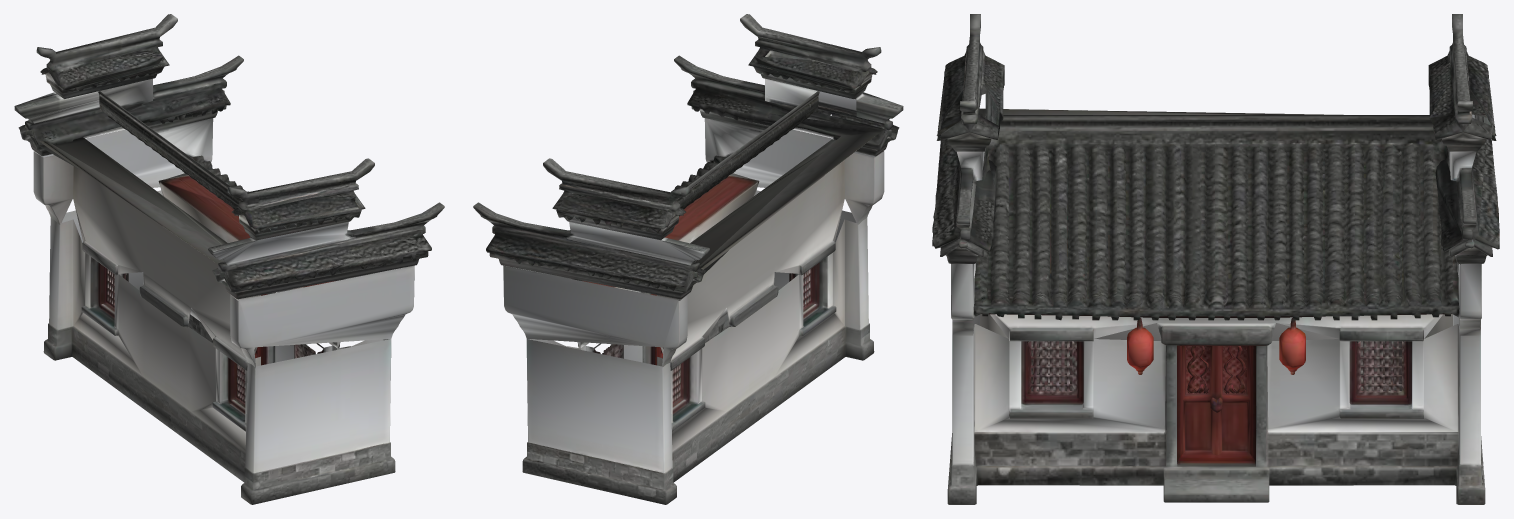
The model's file is house.glb.
3 renders of one model, left to right at view 1: azimuth 30°, elevation 25°; view 2: azimuth 150°, elevation 25°; view 3: azimuth 270°, elevation 25°, orthographic. The views are drawn at different scales.
Parts seen in each view (by area): view 1: tripo_node_8b333182-abb5-4bc7-bd70-dbc9748dc0c6; view 2: tripo_node_8b333182-abb5-4bc7-bd70-dbc9748dc0c6; view 3: tripo_node_8b333182-abb5-4bc7-bd70-dbc9748dc0c6.
Boxes of the visible parts, box(x1,y1,x2,y2) form: tripo_node_8b333182-abb5-4bc7-bd70-dbc9748dc0c6: box(14, 14, 444, 504); tripo_node_8b333182-abb5-4bc7-bd70-dbc9748dc0c6: box(473, 14, 903, 504); tripo_node_8b333182-abb5-4bc7-bd70-dbc9748dc0c6: box(932, 14, 1499, 504).
Size of the model in its own units: 0.5851 by 0.7691 by 0.998.
1 material, 1 textured.
